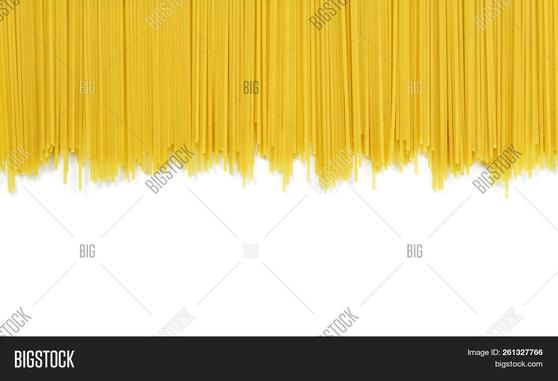spaghetti: (43, 9, 216, 148)
